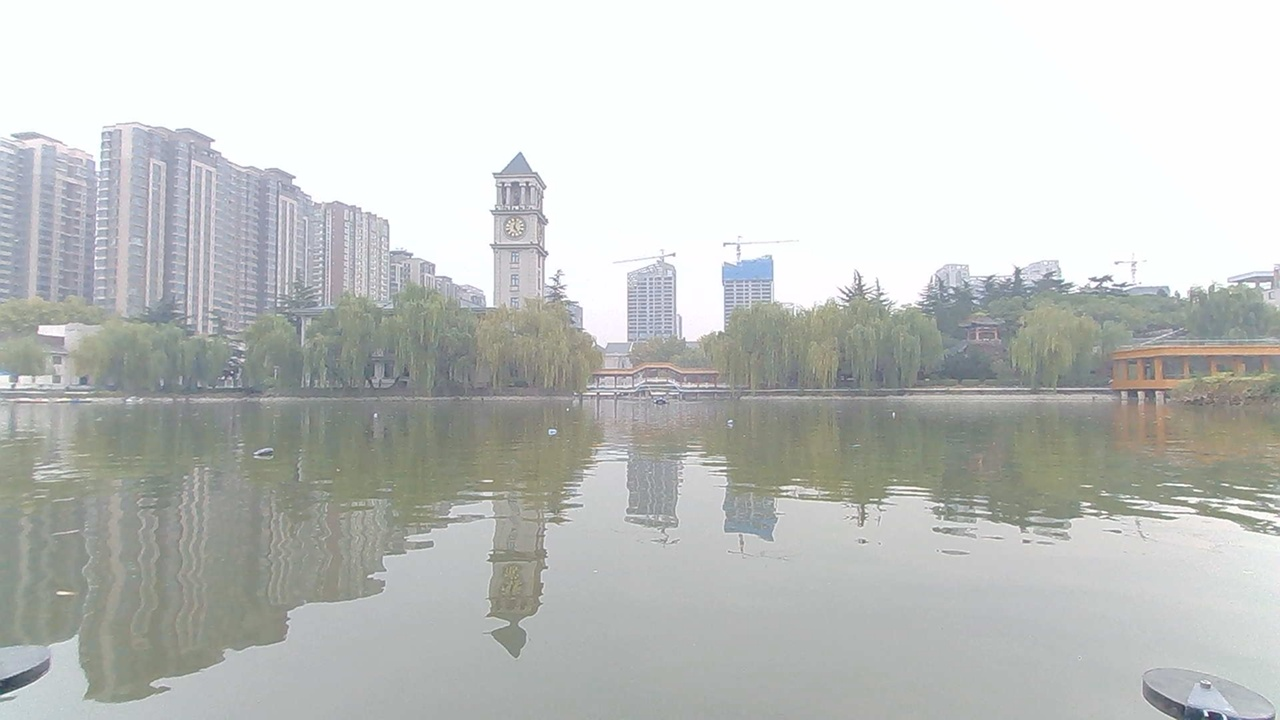bottle: (250, 438, 287, 467), (363, 401, 400, 430), (723, 403, 757, 430), (886, 401, 916, 427), (538, 418, 575, 439), (567, 399, 596, 421)
